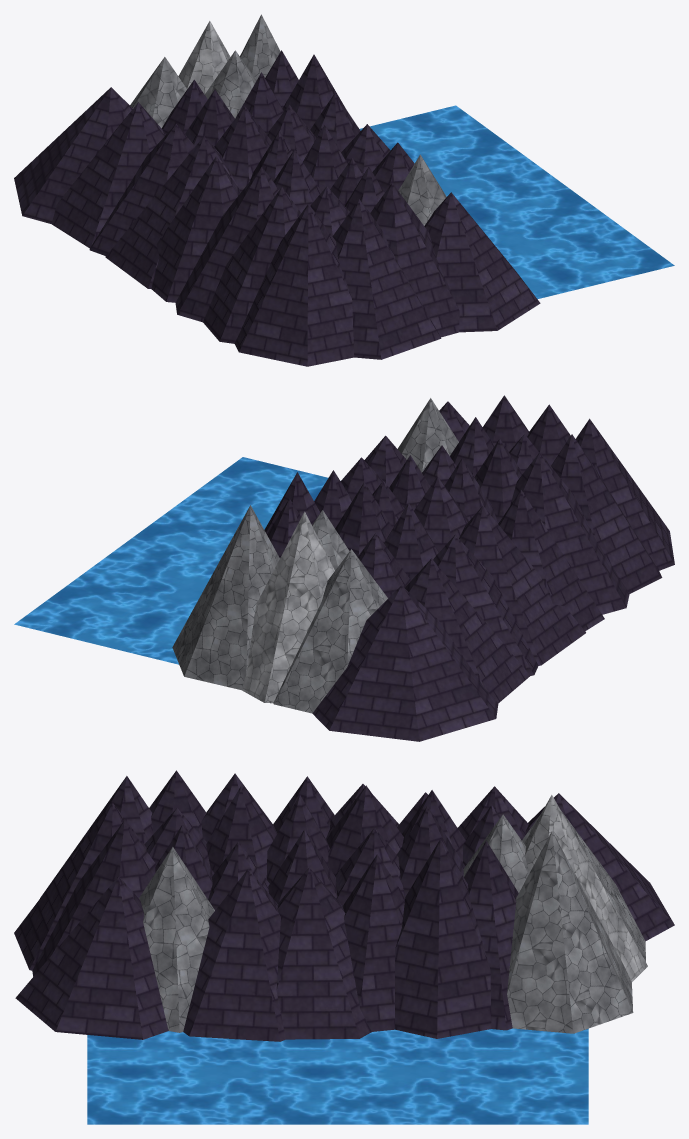
File: chunk_3_23.glb
3 renders of one model, top to bottom at view 1: azimuth 30°, elevation 25°; view 2: azimuth 150°, elevation 25°; view 3: azimuth 270°, elevation 25°, orthographic. The views are drawn at different scales.
Visible parts, largest first — view 1: chunk_3_23; view 2: chunk_3_23; view 3: chunk_3_23.
Boxes of the visible parts, x1,y1,x2,y2 form: chunk_3_23: (14,14,674,366); chunk_3_23: (14,395,674,741); chunk_3_23: (14,770,674,1124).
Size of the model in its own units: 18.88 by 6.47 by 21.09.
13 materials, 12 textured.
